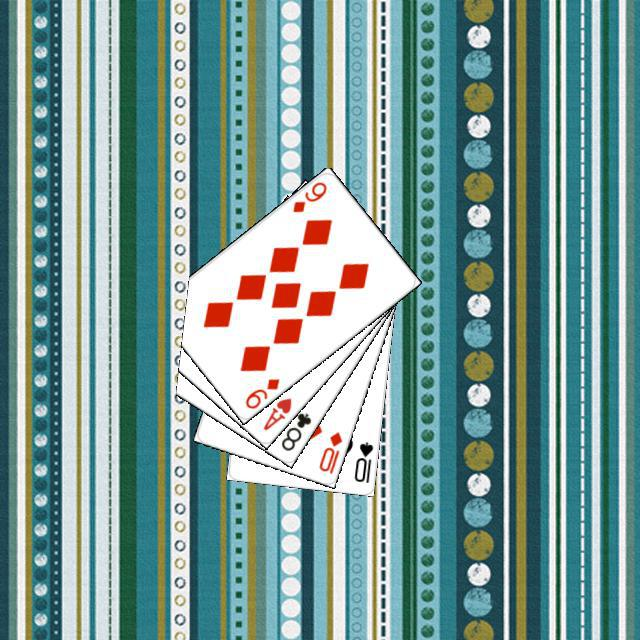10d: (314, 427, 344, 476)
10s: (349, 437, 375, 484)
8c: (276, 408, 313, 453)
9d: (240, 373, 281, 411), (288, 176, 329, 214)
Ah: (258, 393, 293, 432)
